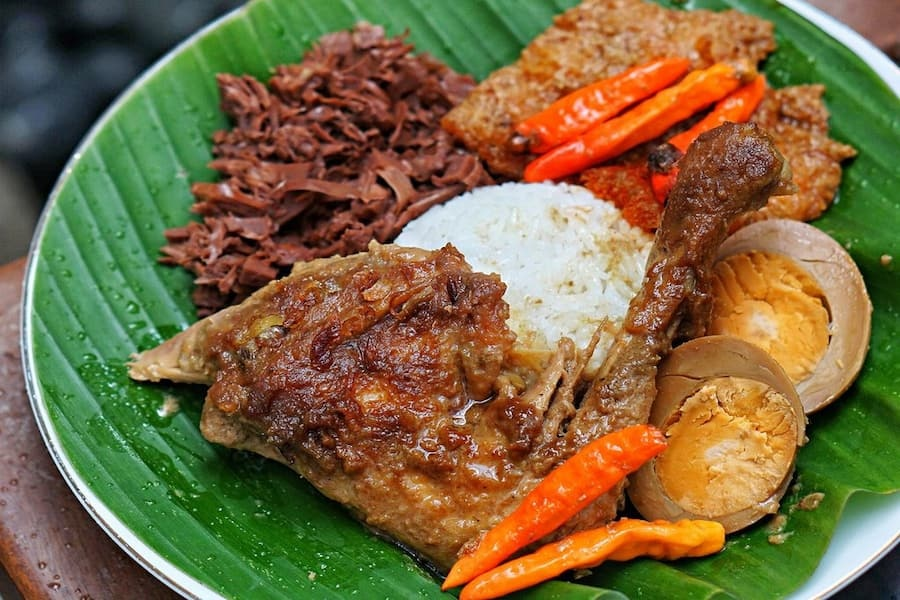gudeg: (174, 12, 848, 538)
